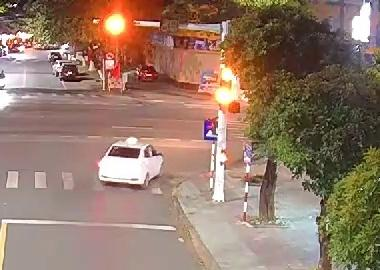stop_line: (3, 219, 175, 230)
yellow_light: (100, 12, 131, 39), (213, 84, 236, 108)
